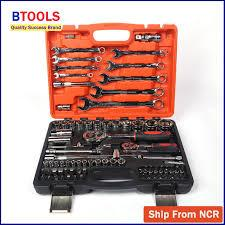wrench: (81, 128, 171, 141), (120, 141, 178, 151)
